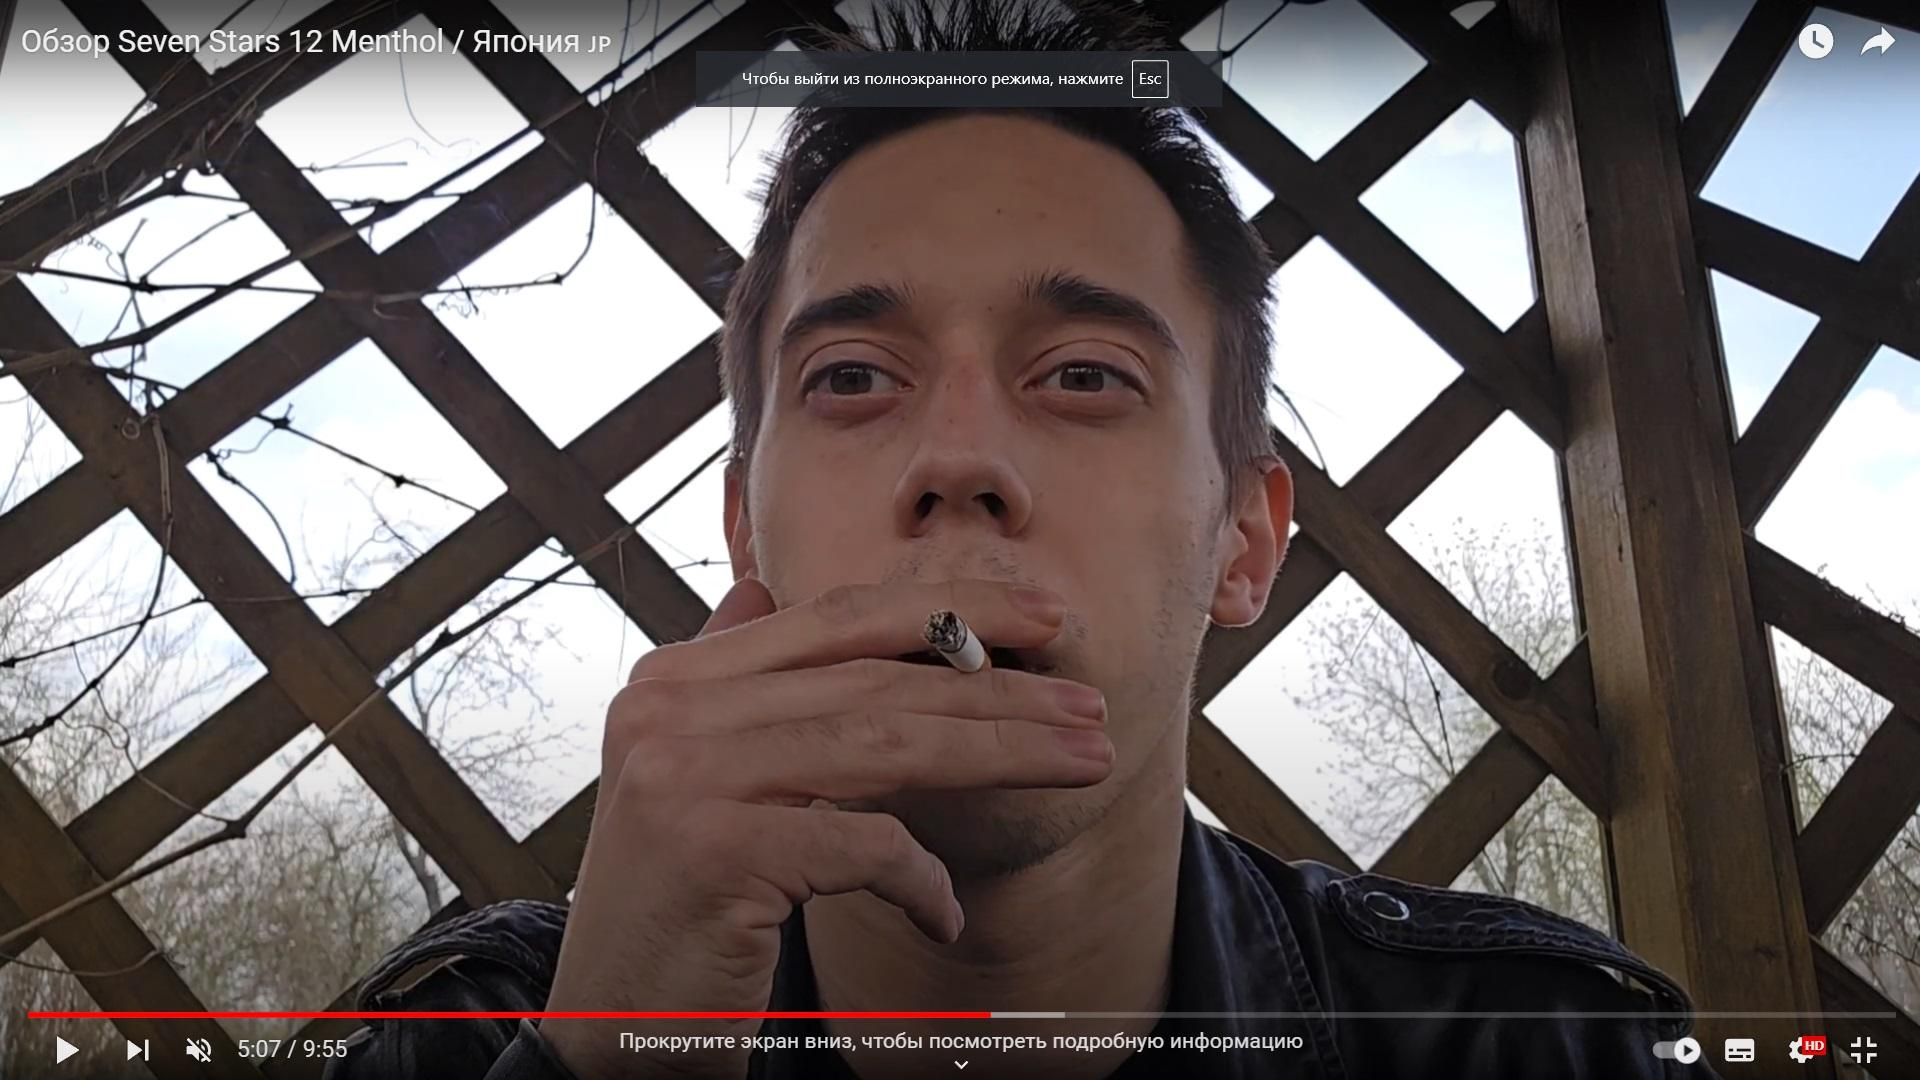cigarette: (922, 609, 992, 674)
